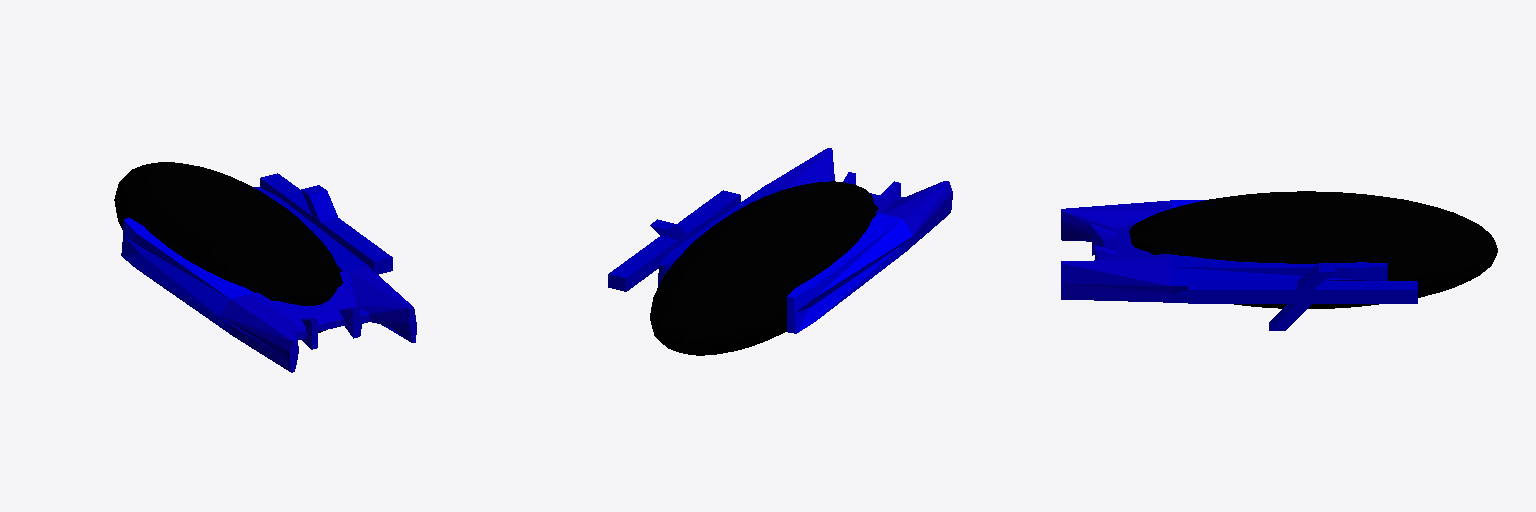
3 renders of one model, left to right at view 1: azimuth 30°, elevation 25°; view 2: azimuth 150°, elevation 25°; view 3: azimuth 270°, elevation 25°, orthographic.
Visible parts, largest first — view 1: 球, 立方体, 立方体.002, 立方体.003, 立方体.001; view 2: 球, 立方体.002, 立方体, 立方体.003, 立方体.001; view 3: 球, 立方体, 立方体.003, 立方体.001.
Boxes of the visible parts, x1=… form: 球: x1=114, y1=162, x2=342, y2=332; 立方体: x1=220, y1=266, x2=416, y2=372; 立方体.002: x1=121, y1=218, x2=253, y2=333; 立方体.003: x1=260, y1=173, x2=392, y2=274; 立方体.001: x1=253, y1=187, x2=367, y2=271; 球: x1=650, y1=181, x2=878, y2=355; 立方体.002: x1=787, y1=213, x2=912, y2=333; 立方体: x1=766, y1=148, x2=952, y2=254; 立方体.003: x1=608, y1=190, x2=740, y2=291; 立方体.001: x1=657, y1=185, x2=782, y2=288; 球: x1=1129, y1=191, x2=1497, y2=308; 立方体: x1=1061, y1=200, x2=1170, y2=302; 立方体.003: x1=1188, y1=263, x2=1417, y2=330; 立方体.001: x1=1170, y1=255, x2=1387, y2=302.
Bounding box in the file's own units: 1.83 × 0.9476 × 3.81.